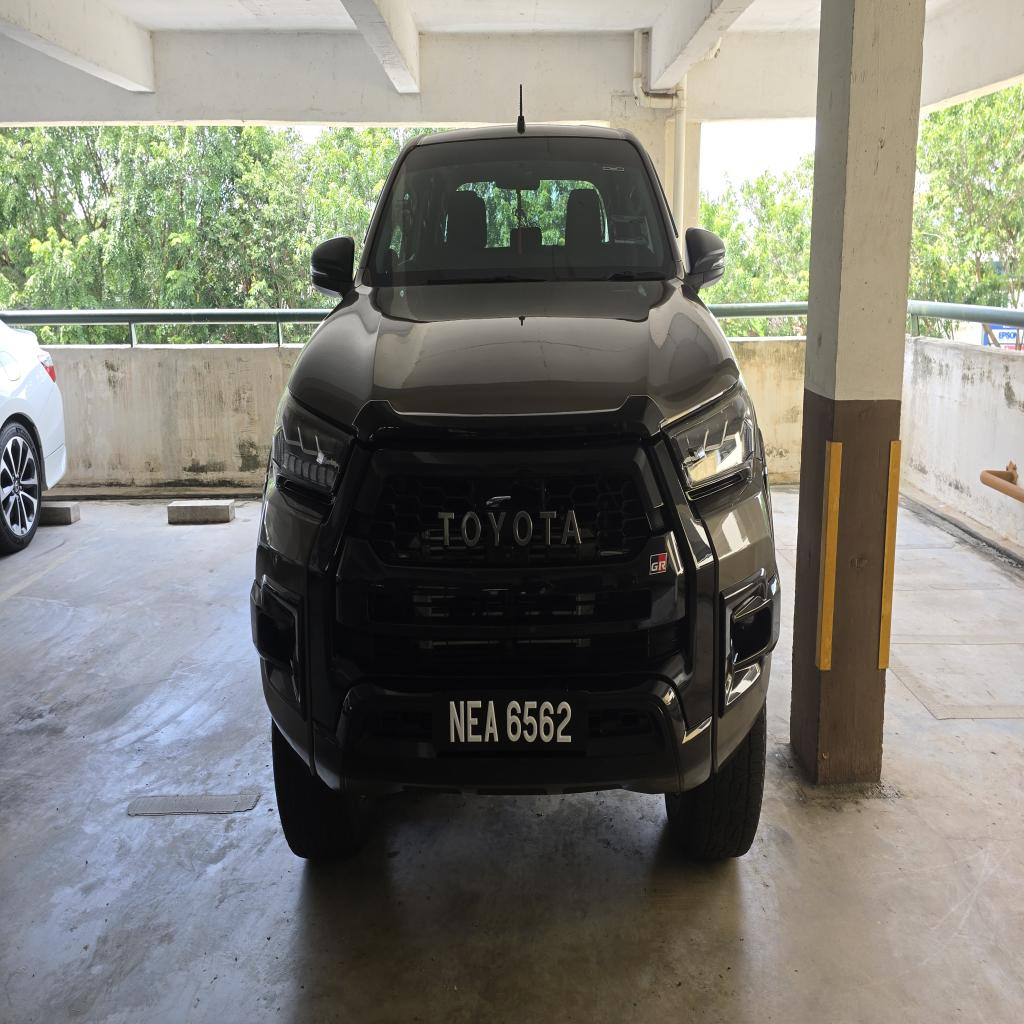car: (252, 127, 779, 858)
car plate: (434, 691, 588, 756)
